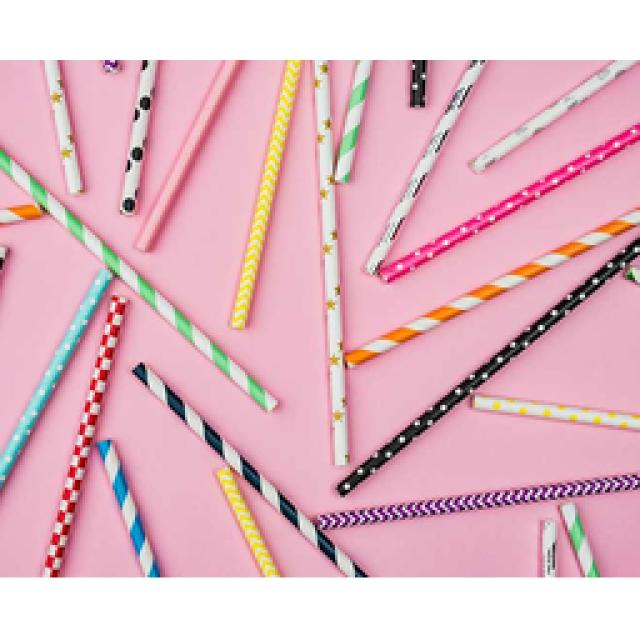plastic: (315, 60, 638, 465), (132, 362, 638, 575), (0, 150, 278, 485), (338, 235, 638, 492), (365, 60, 638, 280), (45, 295, 128, 575), (230, 60, 300, 328), (470, 60, 638, 168), (140, 60, 230, 250), (98, 440, 158, 575), (120, 60, 158, 212), (45, 60, 78, 192), (410, 60, 425, 108)
